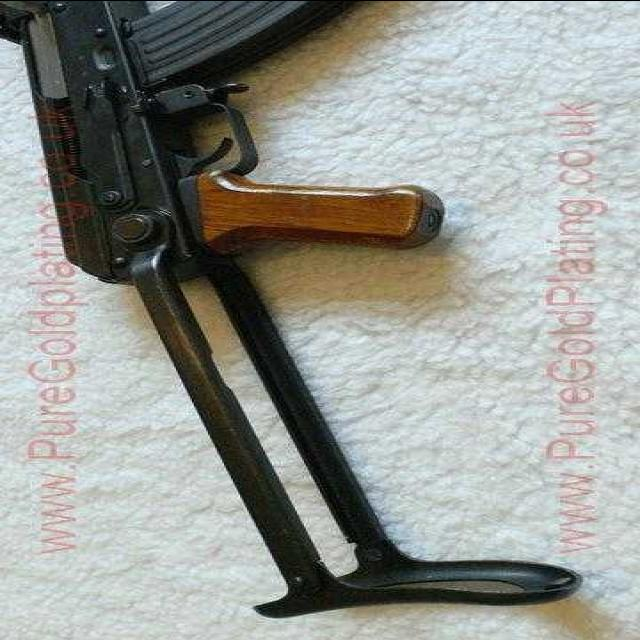heavyweapon: (18, 1, 588, 632)
